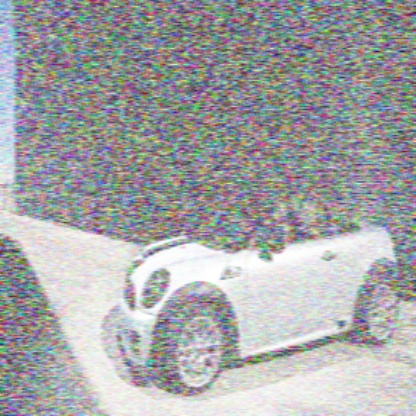Vehicle: (118, 190, 403, 398)
